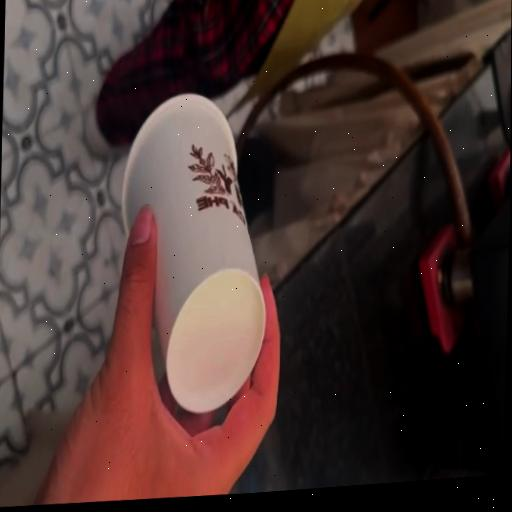Ly_giay: (121, 95, 264, 413)
